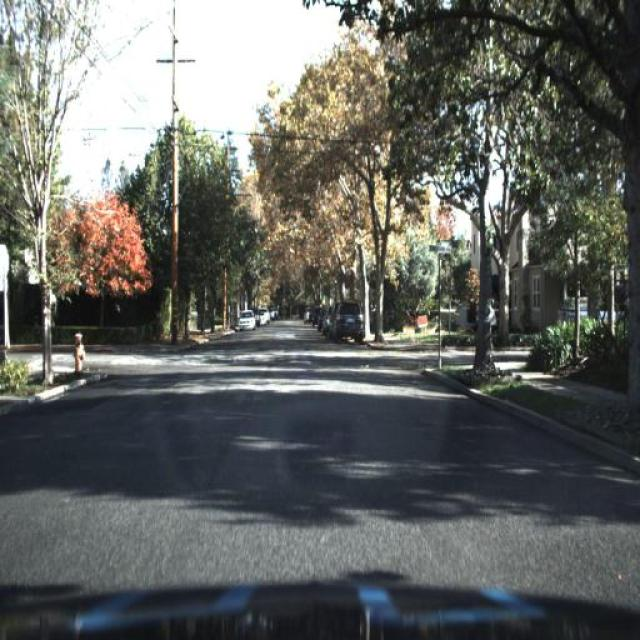car: (328, 296, 368, 344), (239, 307, 256, 335)
